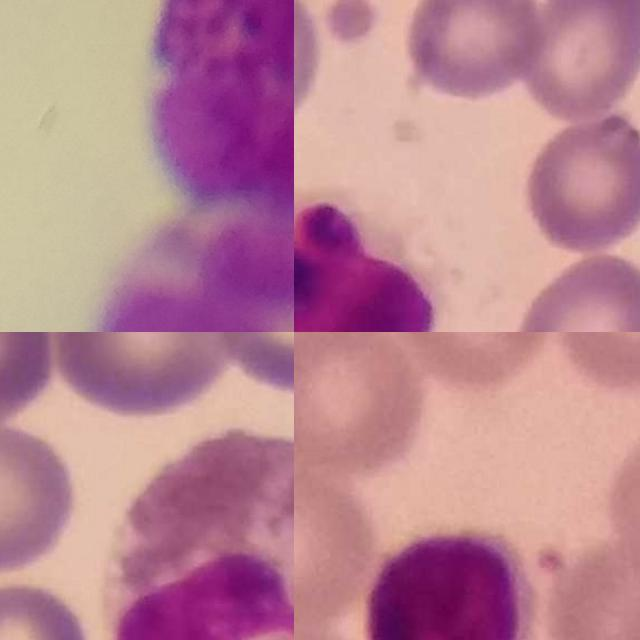Basophil: (153, 0, 294, 240)
Eosinophil: (99, 432, 294, 640)
Lymphocyte: (294, 186, 444, 332), (363, 522, 538, 640)
